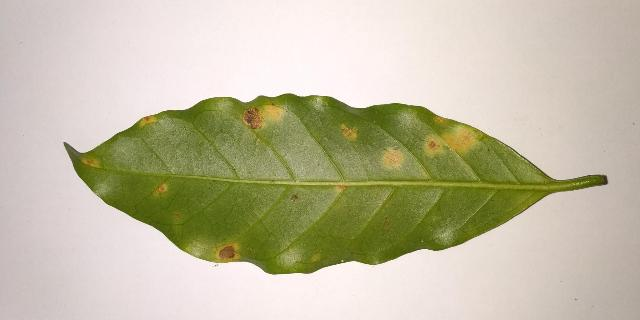miner: (425, 123, 486, 154), (242, 103, 283, 129), (213, 242, 239, 263), (382, 148, 404, 168), (342, 125, 356, 139), (142, 115, 154, 125), (82, 158, 96, 166), (334, 183, 346, 192), (436, 114, 449, 122), (156, 184, 166, 193)
